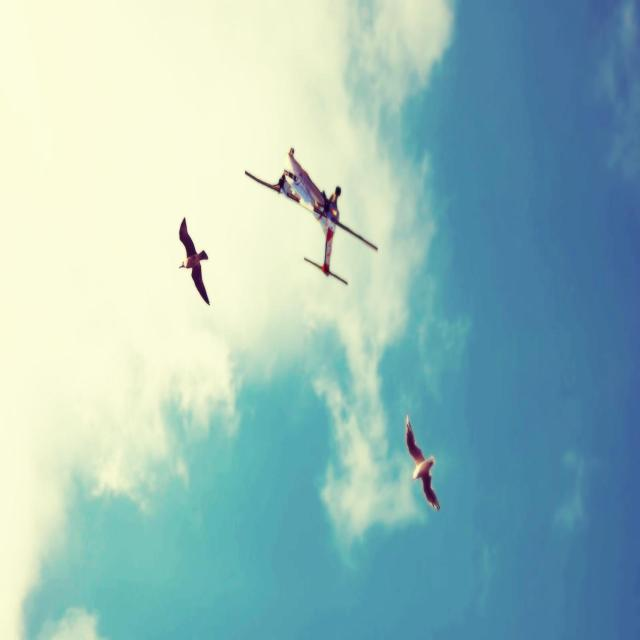airplane: (244, 146, 378, 286)
